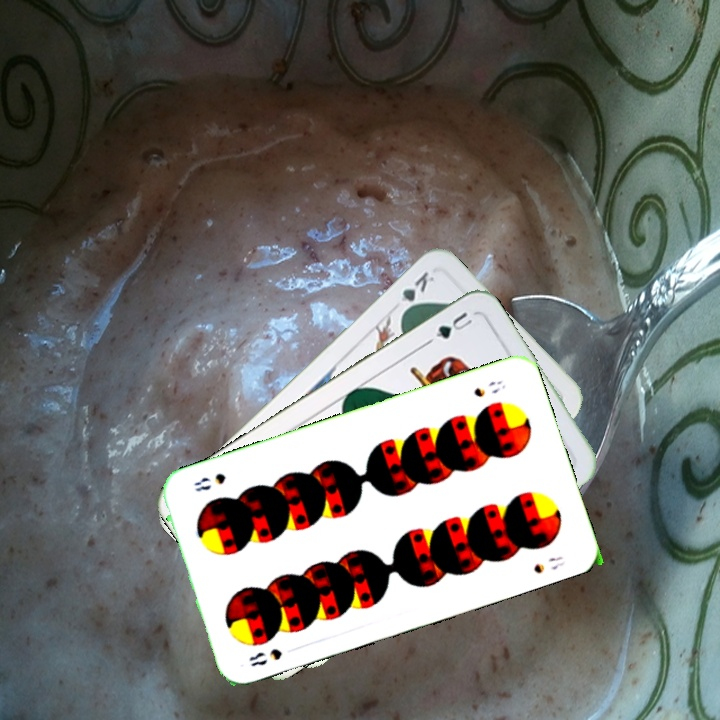GK: (396, 267, 437, 318)
GU: (431, 307, 478, 342)
S8: (244, 644, 285, 670), (470, 376, 508, 400)
